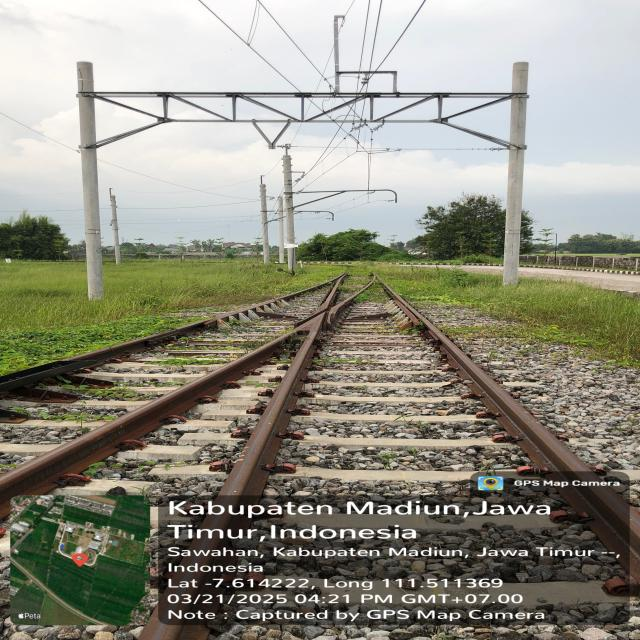rail-detection: (0, 290, 352, 518), (385, 287, 640, 569), (0, 313, 231, 390), (141, 599, 185, 640)
